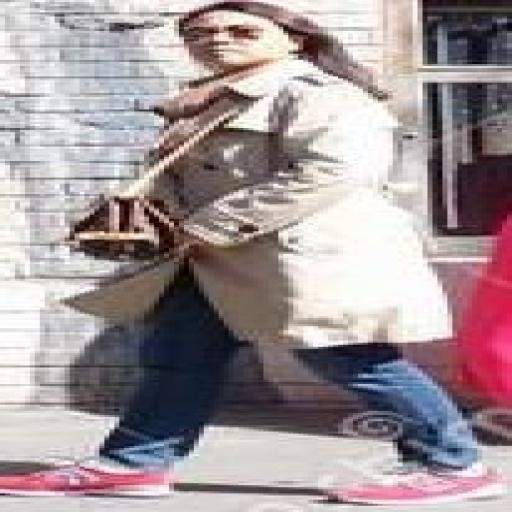person: (0, 0, 502, 503)
